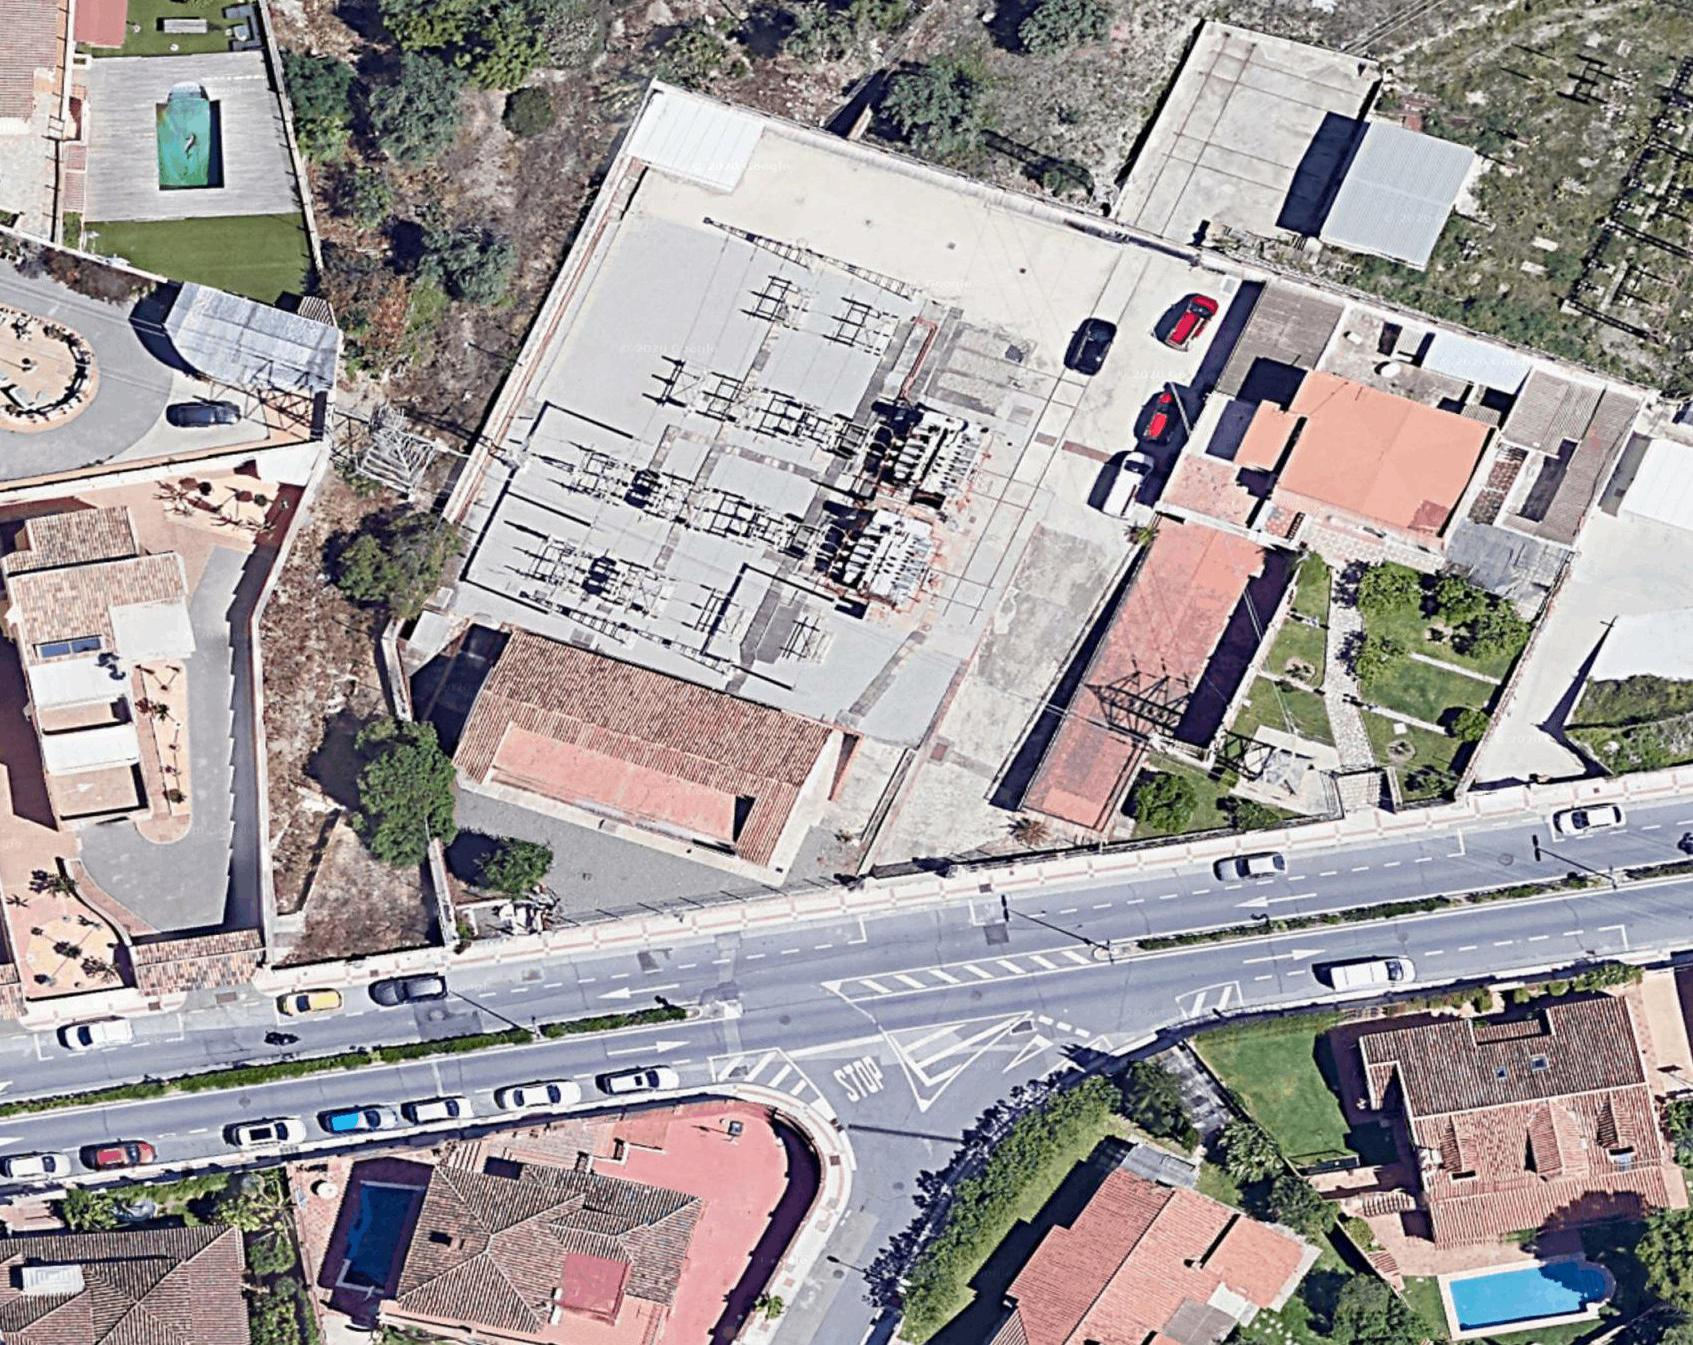substation: (448, 203, 1009, 698)
